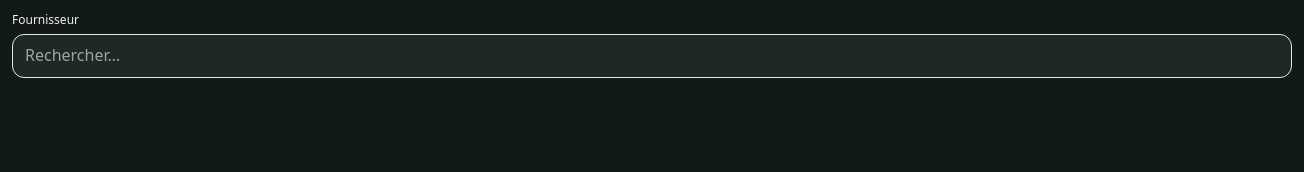
EntityPicker › met à jour la sélection via onChange
Later steps or results of the test are not shown.
Type "Agri" into the dropdown with placeholder "Rechercher…" at (652, 56), box [12,34,1292,78]
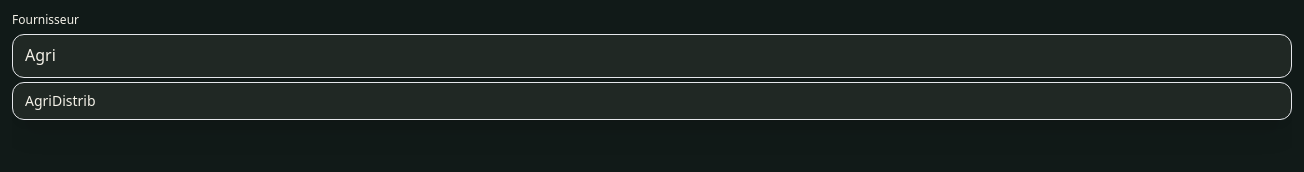
Now the option "AgriDistrib" is shown, box [25,91,96,110]
